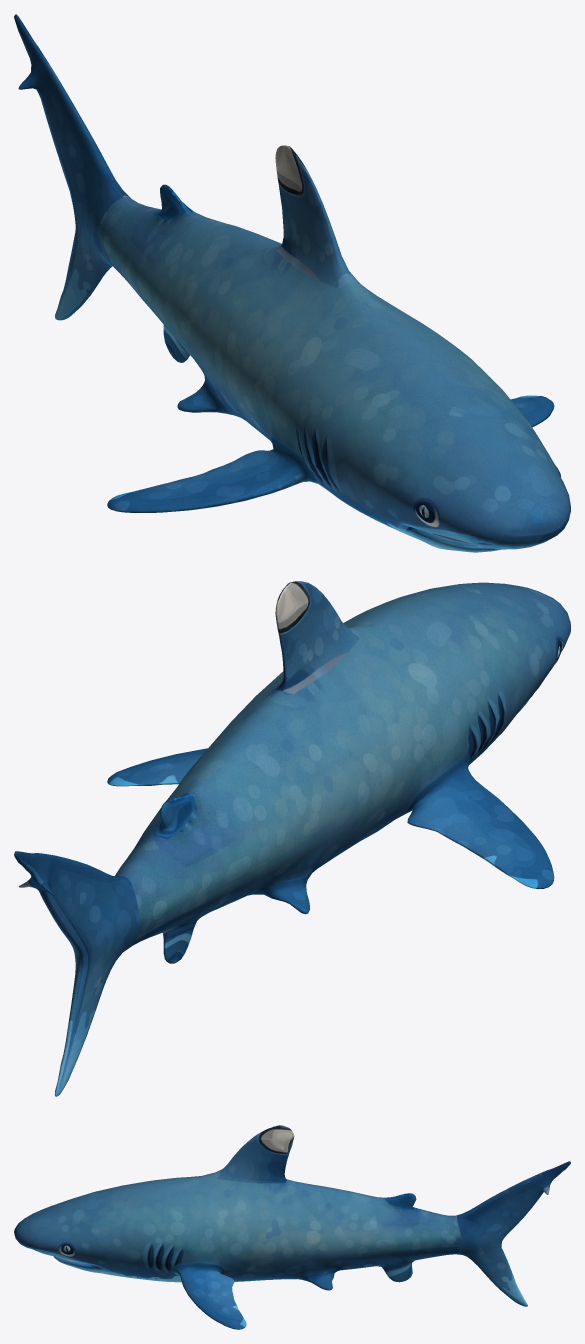
Rendered from baby_teen_shark.glb.
3 renders of one model, top to bottom at view 1: azimuth 30°, elevation 25°; view 2: azimuth 150°, elevation 25°; view 3: azimuth 270°, elevation 25°, orthographic. The views are drawn at different scales.
Visible parts, largest first — view 1: white_tip_shark_LOD2.1_Material_0_0; view 2: white_tip_shark_LOD2.1_Material_0_0; view 3: white_tip_shark_LOD2.1_Material_0_0.
Part boxes in pixels (left/top/right/bottom): white_tip_shark_LOD2.1_Material_0_0: left=14, top=14, right=570, bottom=552; white_tip_shark_LOD2.1_Material_0_0: left=14, top=581, right=570, bottom=1096; white_tip_shark_LOD2.1_Material_0_0: left=14, top=1125, right=570, bottom=1329.
Bounding box in the file's own units: 4.6 × 3.42 × 9.52.
1 material, 1 textured.
